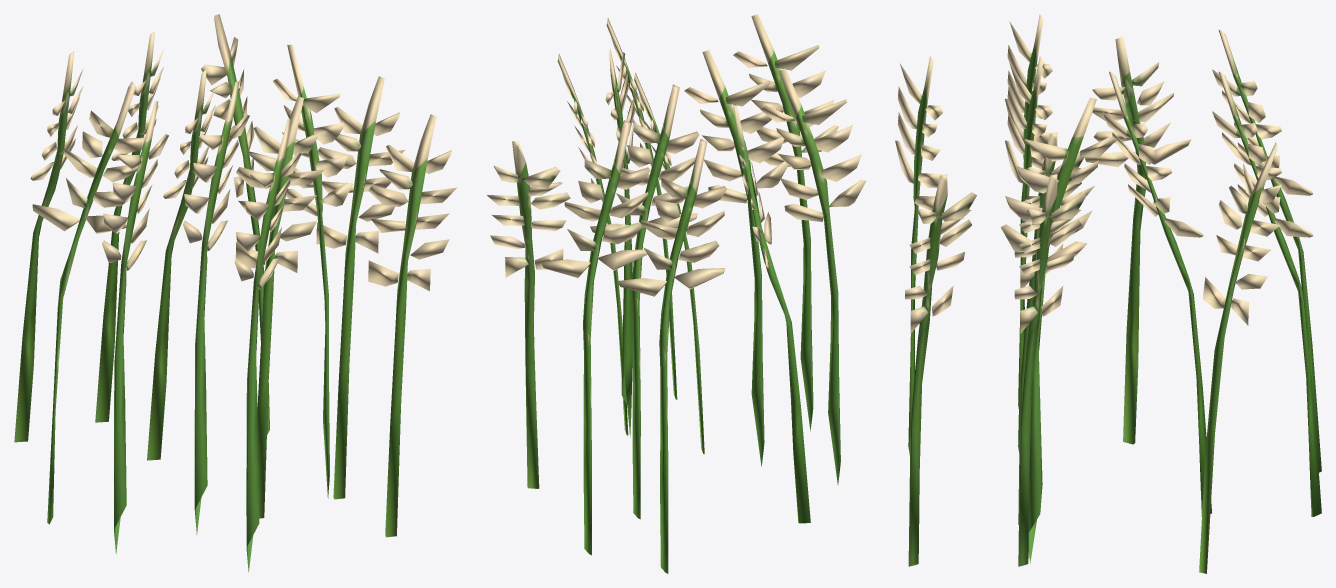
The model's file is wheat.glb.
The picture shows the model from 3 angles, left to right: view 1: azimuth 30°, elevation 25°; view 2: azimuth 150°, elevation 25°; view 3: azimuth 270°, elevation 25°; orthographic projection. The views are drawn at different scales.
Parts seen in each view (by area): view 1: Mesh_0; view 2: Mesh_0; view 3: Mesh_0.
Boxes of the visible parts, left/top/right/bottom form: Mesh_0: left=14, top=14, right=456, bottom=572; Mesh_0: left=487, top=14, right=866, bottom=573; Mesh_0: left=895, top=14, right=1321, bottom=573.
Bounding box in the file's own units: 0.958 × 1.29 × 1.08.
1 material, 1 textured.
